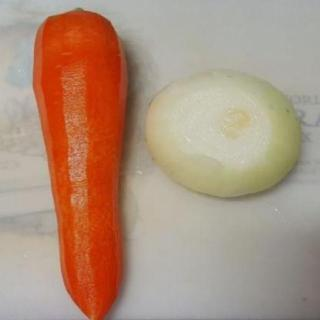carrot: (24, 6, 140, 318)
